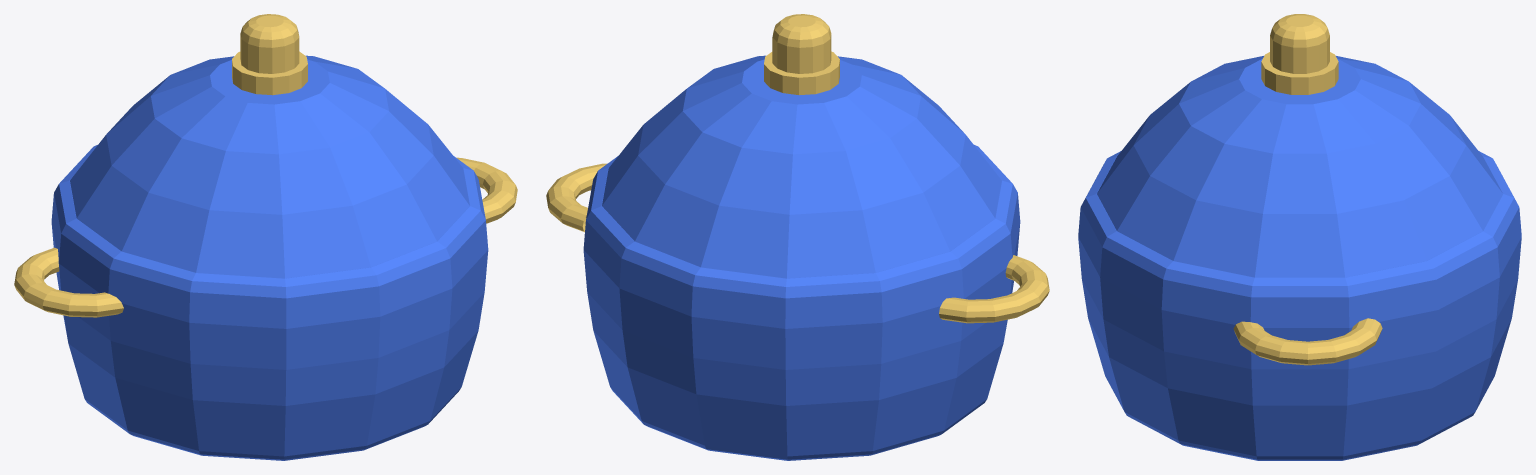
Rendered from Pot_20.fbx.
The picture shows the model from 3 angles, left to right: view 1: azimuth 30°, elevation 25°; view 2: azimuth 150°, elevation 25°; view 3: azimuth 270°, elevation 25°; orthographic projection.
Parts seen in each view (by area): view 1: Pot_20; view 2: Pot_20; view 3: Pot_20.
Boxes of the visible parts, left/top/right/bottom form: Pot_20: left=14, top=14, right=517, bottom=460; Pot_20: left=546, top=14, right=1049, bottom=460; Pot_20: left=1078, top=14, right=1521, bottom=460.
Size of the model in its own units: 0.2508 by 0.179 by 0.1979.
